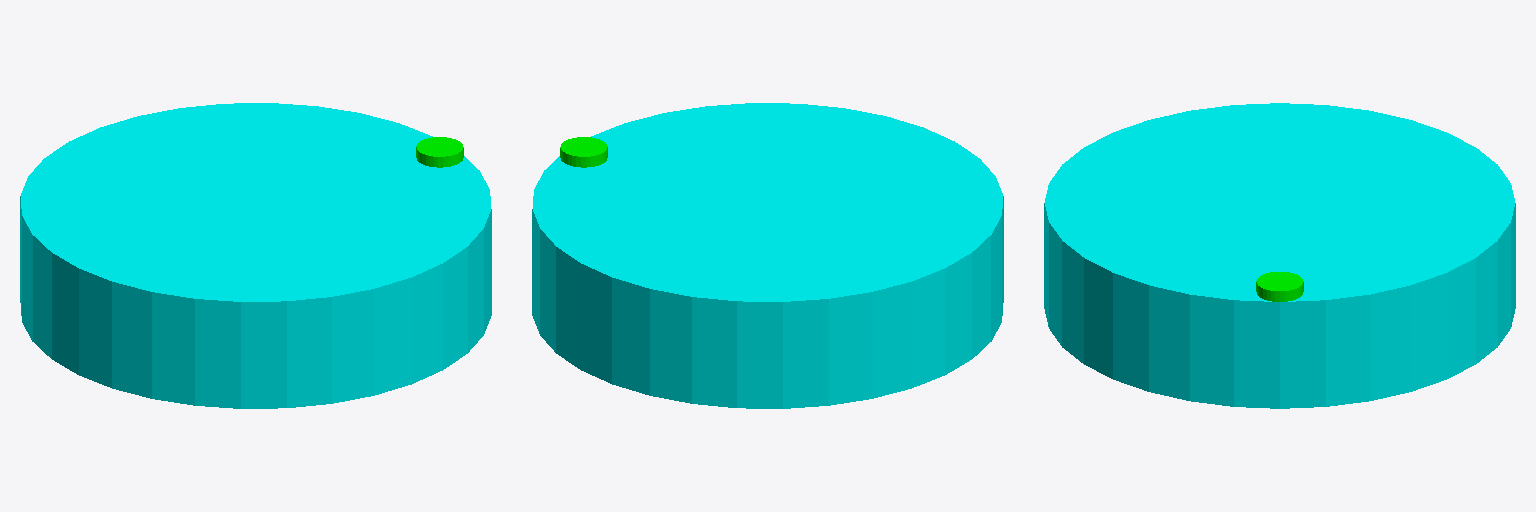
URDF robot description (Simple):
<?xml version="1.0" ?>
<!-- =================================================================================== -->
<!-- |    This document was autogenerated by xacro from hoge.urdf                      | -->
<!-- |    EDITING THIS FILE BY HAND IS NOT RECOMMENDED                                 | -->
<!-- =================================================================================== -->
<robot name="Simple" xmlns:controller="http://playerstage.sourceforge.net/gazebo/xmlschema/#controller" xmlns:interface="http://playerstage.sourceforge.net/gazebo/xmlschema/#interface" xmlns:sensor="http://playerstage.sourceforge.net/gazebo/xmlschema/#sensor">
  <link name="base_link"/>
  <link name="base_laser_link"/>
  <link name="main">
    <!-- main body -->
    <visual>
      <origin rpy="0 0 0" xyz="0 0 0"/>
      <geometry>
        <cylinder length="0.1" radius="0.2"/>
      </geometry>
      <material name="Cyan">
        <color rgba="0 1.0 1.0 1.0"/>
      </material>
    </visual>
    <visual>
      <origin rpy="0 0 0" xyz="0.18 0 0.055"/>
      <geometry>
        <cylinder length="0.01" radius="0.02"/>
      </geometry>
      <material name="Green">
        <color rgba="0.0 1.0 0.0 1.0"/>
      </material>
    </visual>
    <collision>
      <origin rpy="0 0 0" xyz="0 0 0"/>
      <geometry>
        <cylinder length="0.1" radius="0.2"/>
      </geometry>
    </collision>
    <inertial>
      <mass value="1.0"/>
      <origin rpy="0 0 0" xyz="0 0 0"/>
      <inertia ixx="0.1" ixy="0" ixz="0" iyy="0.1" iyz="0" izz="0.1"/>
    </inertial>
  </link>
  <joint name="fixed_base_link_to_main" type="fixed">
    <parent link="base_link"/>
    <child link="main"/>
    <origin rpy="0 0 0" xyz="0.0 0.0 0.05"/>
  </joint>
  <joint name="fixed_main_to_baselaser_link" type="fixed">
    <parent link="main"/>
    <child link="base_laser_link"/>
    <origin rpy="0 0 0" xyz="0.2 0.0 0.15"/>
  </joint>
  <!-- hokuyo -->
  <gazebo reference="base_laser_link">
    <sensor name="head_hokuyo_sensor" type="ray">
      <pose>0 0 0 0 0 0</pose>
      <visualize>false</visualize>
      <update_rate>40</update_rate>
      <ray>
        <scan>
          <horizontal>
            <samples>1000</samples>
            <resolution>1</resolution>
            <min_angle>-2.35619449</min_angle>
            <max_angle>2.35619449</max_angle>
          </horizontal>
        </scan>
        <range>
          <min>0.5</min>
          <max>30.0</max>
          <resolution>0.01</resolution>
        </range>
        <noise>
          <type>gaussian</type>
          <!--
                 Noise parameters based on published spec for Hokuyo laser
                 achieving "+-30mm" accuracy at range < 10m.  A mean of 0.0m and
                 stddev of 0.01m will put 99.7% of samples within 0.03m of the true
                 reading.
                 -->
          <mean>0.0</mean>
          <stddev>0.01</stddev>
        </noise>
      </ray>
      <plugin filename="libgazebo_ros_laser.so" name="gazebo_ros_head_hokuyo_controller">
        <topicName>scan</topicName>
        <frameName>base_laser_link</frameName>
      </plugin>
    </sensor>
  </gazebo>
  <!-- Base control -->
  <gazebo>
    <!--plugin filename="libgazebo_ros_planar_force_move.so" name="cmd_vel_controller"-->
    <plugin filename="libgazebo_ros_planar_move.so" name="cmd_vel_controller">
      <commandTopic>cmd_vel</commandTopic>
      <odometryTopic>odom</odometryTopic>
      <odometryFrame>odom</odometryFrame>
      <odometryRate>40.0</odometryRate>
      <robotBaseFrame>base_link</robotBaseFrame>
      <useForceFeedback>true</useForceFeedback>
      <appliedForceLink>base_link</appliedForceLink>
      <forceGainX>24000</forceGainX>
      <forceGainY>24000</forceGainY>
      <forceGainRot>6000</forceGainRot>
    </plugin>
  </gazebo>
</robot>

--- Facts derived from the render (not from the file) ---
Views: 3 orthographic renders of the robot side by side, from view 1: azimuth 30°, elevation 25°; view 2: azimuth 150°, elevation 25°; view 3: azimuth 270°, elevation 25°.
Robot: Simple — 3 links, 2 joints (2 fixed); root link base_link; default pose: every joint at zero.
Links seen in each view (by area): view 1: main; view 2: main; view 3: main.
Boxes of the visible links, x1,y1,x2,y2 form: main: (20, 103, 491, 408); main: (532, 103, 1003, 408); main: (1044, 103, 1515, 408).
Bounding box of the posed robot: 0.4 × 0.4 × 0.11 m (x, y, z).
Geometry: primitives only (box / cylinder / sphere), no mesh files.
